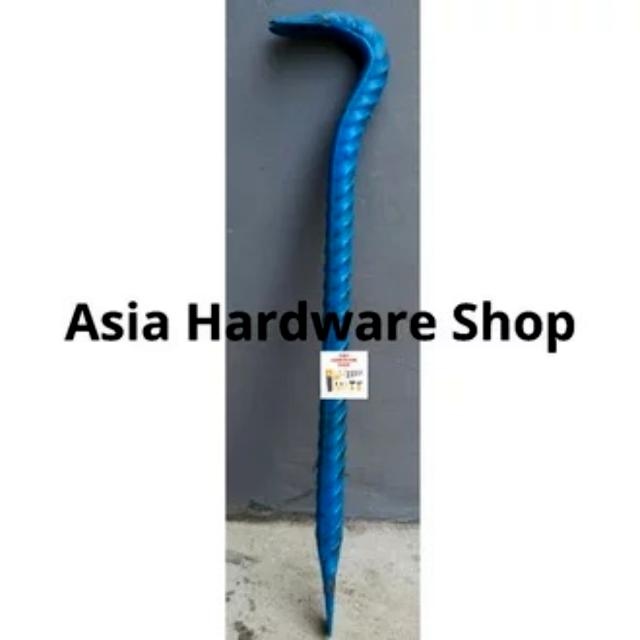crow bar: (263, 4, 392, 631)
